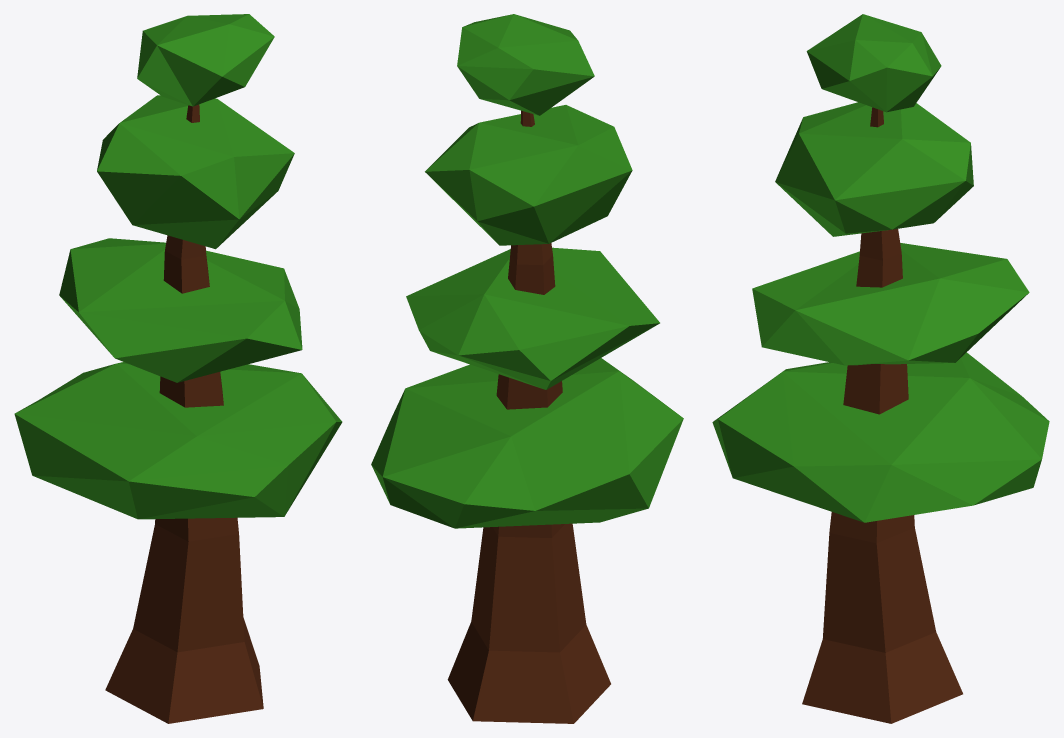
Rendered from Tree_002.gltf.
3 views of the same model, side by side, from view 1: azimuth 30°, elevation 25°; view 2: azimuth 150°, elevation 25°; view 3: azimuth 270°, elevation 25° (orthographic).
Parts seen in each view (by area): view 1: Low_Poly_Tree_002; view 2: Low_Poly_Tree_002; view 3: Low_Poly_Tree_002.
Part boxes in pixels (bbox=[...]): Low_Poly_Tree_002: bbox=[14, 14, 342, 723]; Low_Poly_Tree_002: bbox=[371, 14, 683, 723]; Low_Poly_Tree_002: bbox=[712, 14, 1049, 723].
Bounding box in the file's own units: 4.89 × 10.96 × 5.07.
